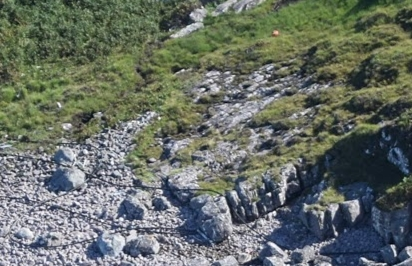tube: (223, 198, 259, 235), (95, 174, 164, 190), (71, 227, 128, 245), (129, 218, 197, 232), (3, 134, 77, 146), (77, 209, 126, 226), (317, 244, 386, 256), (4, 208, 29, 240), (79, 139, 103, 172), (167, 182, 226, 195), (1, 150, 59, 162), (15, 236, 70, 248), (260, 233, 292, 251), (43, 200, 75, 214), (3, 193, 38, 205), (39, 190, 73, 202)
white_in_green: (259, 15, 291, 47)
